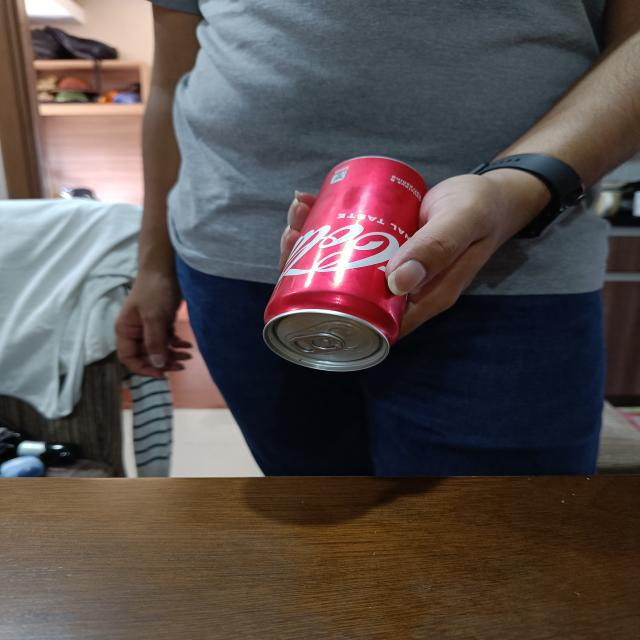coke: (270, 154, 425, 373)
